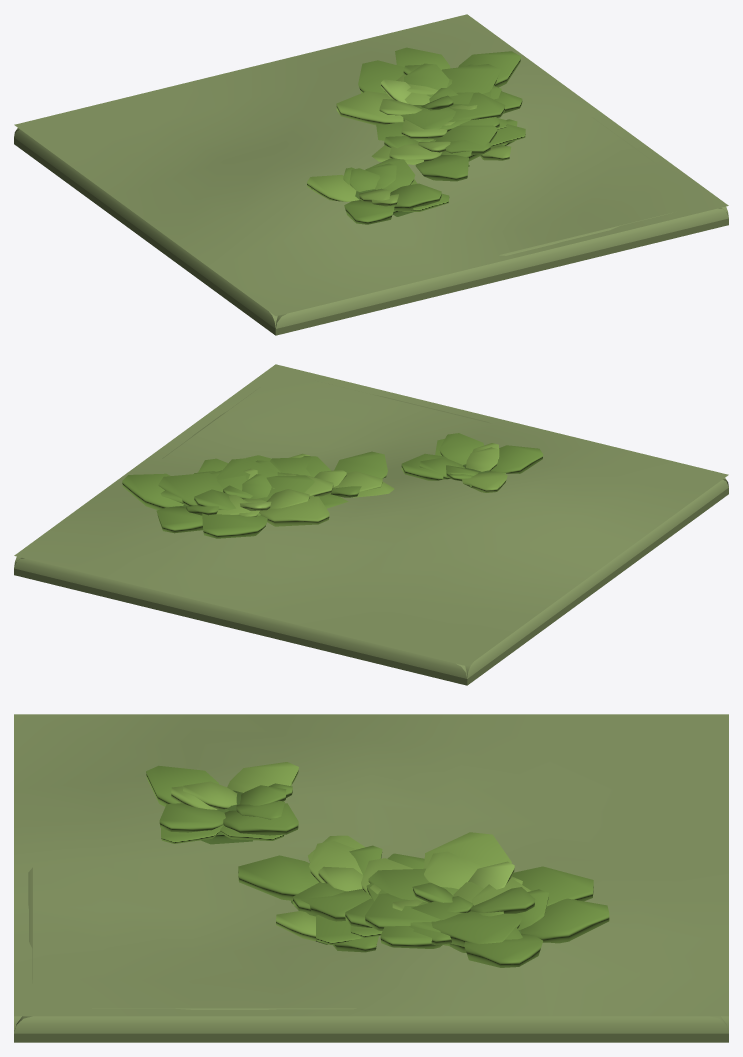
The model's file is tile_layer_surface_master_grass.glb.
The picture shows the model from 3 angles, top to bottom: view 1: azimuth 30°, elevation 25°; view 2: azimuth 150°, elevation 25°; view 3: azimuth 270°, elevation 25°; orthographic projection. The views are drawn at different scales.
Parts seen in each view (by area): view 1: tile_layer_surface_master_grass_cap; view 2: tile_layer_surface_master_grass_cap; view 3: tile_layer_surface_master_grass_cap.
Part boxes in pixels (x1,y1,x2,y2): tile_layer_surface_master_grass_cap: (14,14,728,335); tile_layer_surface_master_grass_cap: (14,364,728,685); tile_layer_surface_master_grass_cap: (14,714,728,1042).
Size of the model in its own units: 1.35 by 0.1452 by 1.35.
